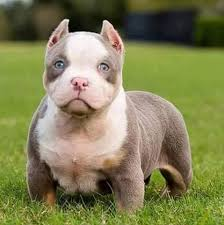Perro Pitbull: (31, 12, 153, 224)
